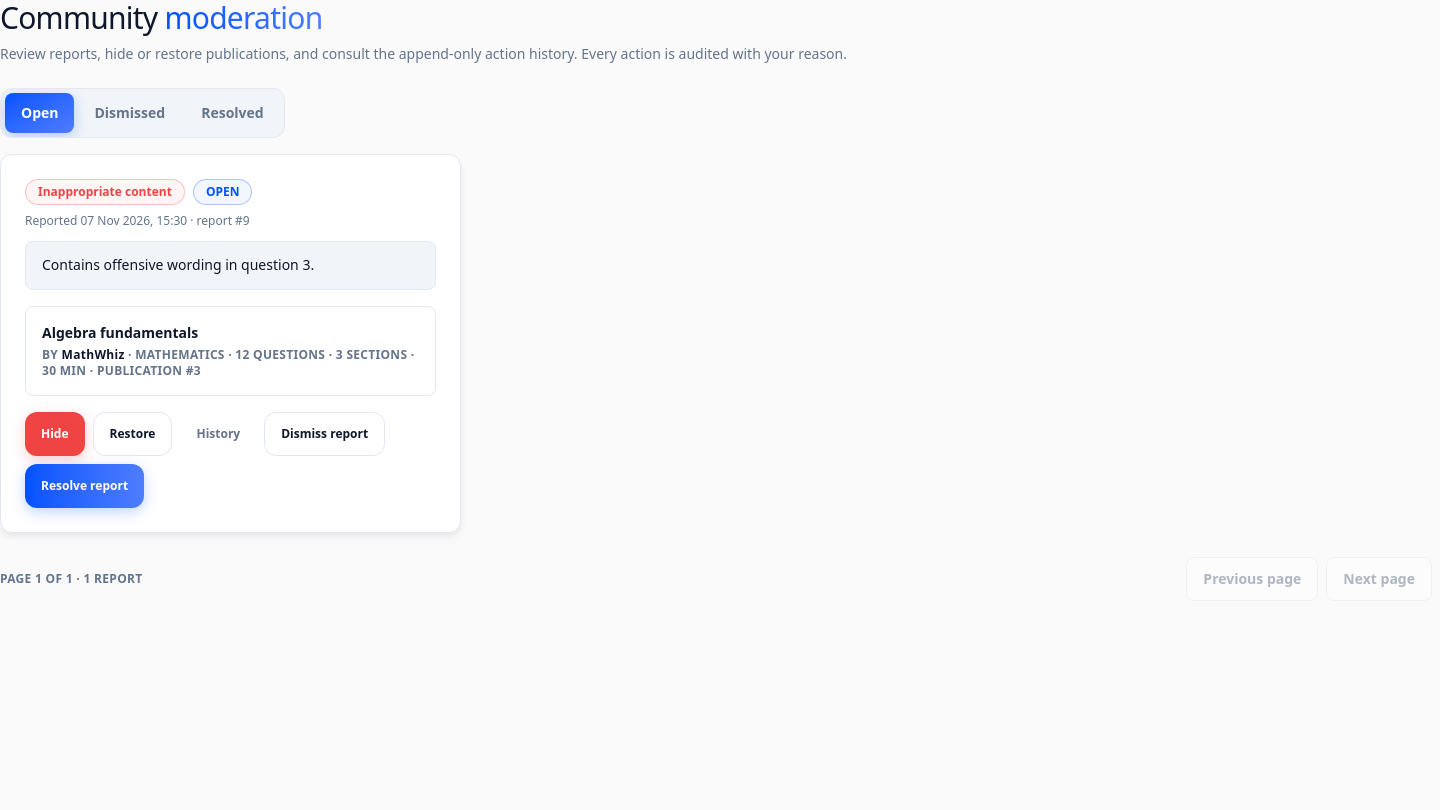
Test: /community/moderation › renders the append-only history newest-first
Click the button "History": (218, 434) [180,412,256,456]
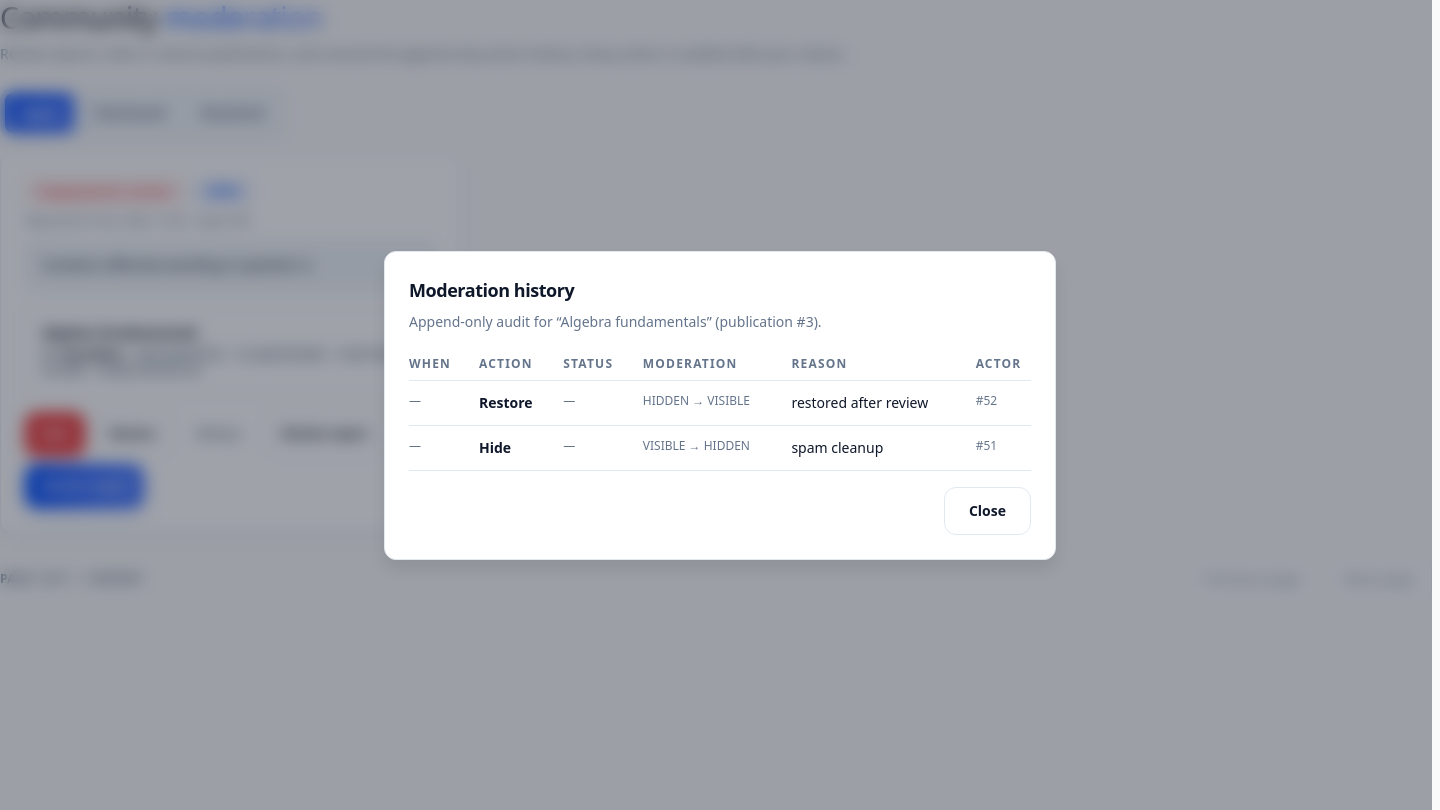
Check: the heading "Moderation history" is shown, box [409,278,574,302]
Check: the number of rows is 3, box [409,348,1031,380]; [409,380,1031,425]; [409,425,1031,470]
Check: the row "— Restore — HIDDEN → VISIBLE restored after review #52" is shown, box [409,380,1031,425]
